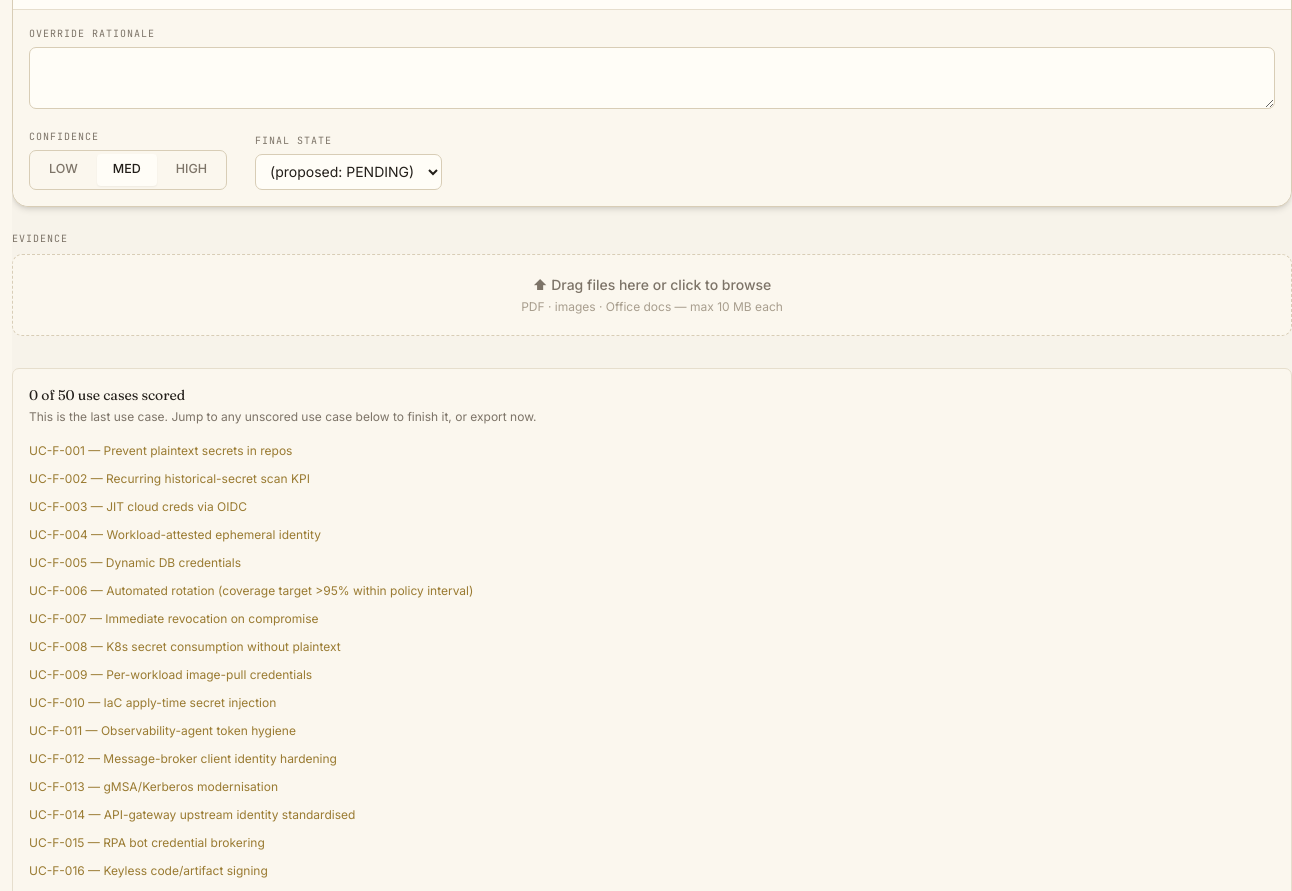
Test: lists unscored use cases on the last screen and lets you jump to one
This screenshot has width=1292, height=891.
(page scrolled)
Click the button "UC-F-001 — Prevent plaintext secrets in repos": coordinates (161, 450) [29,442,292,458]
(page scrolled)
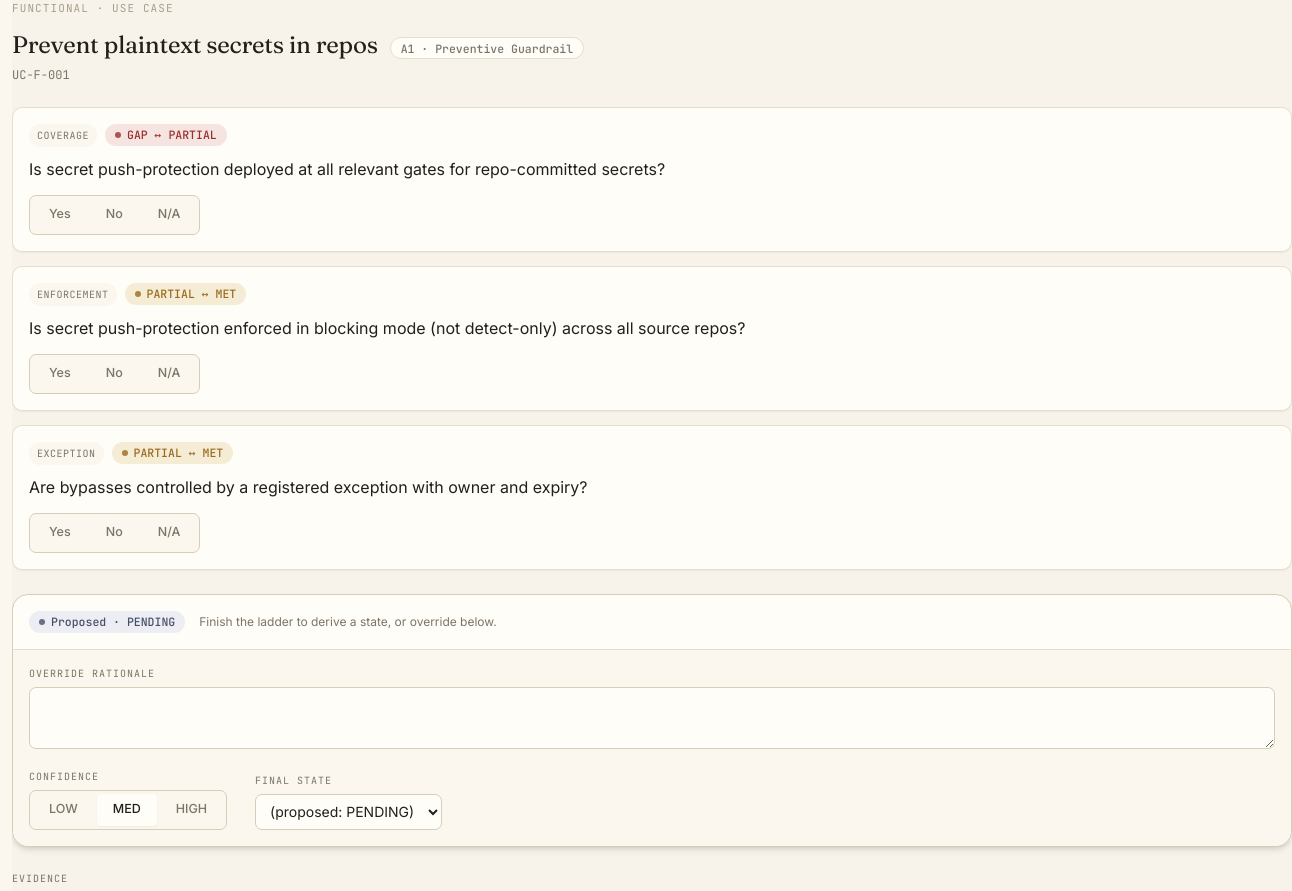
Now the heading reads "Prevent plaintext secrets in repos", box [12,30,378,58]
